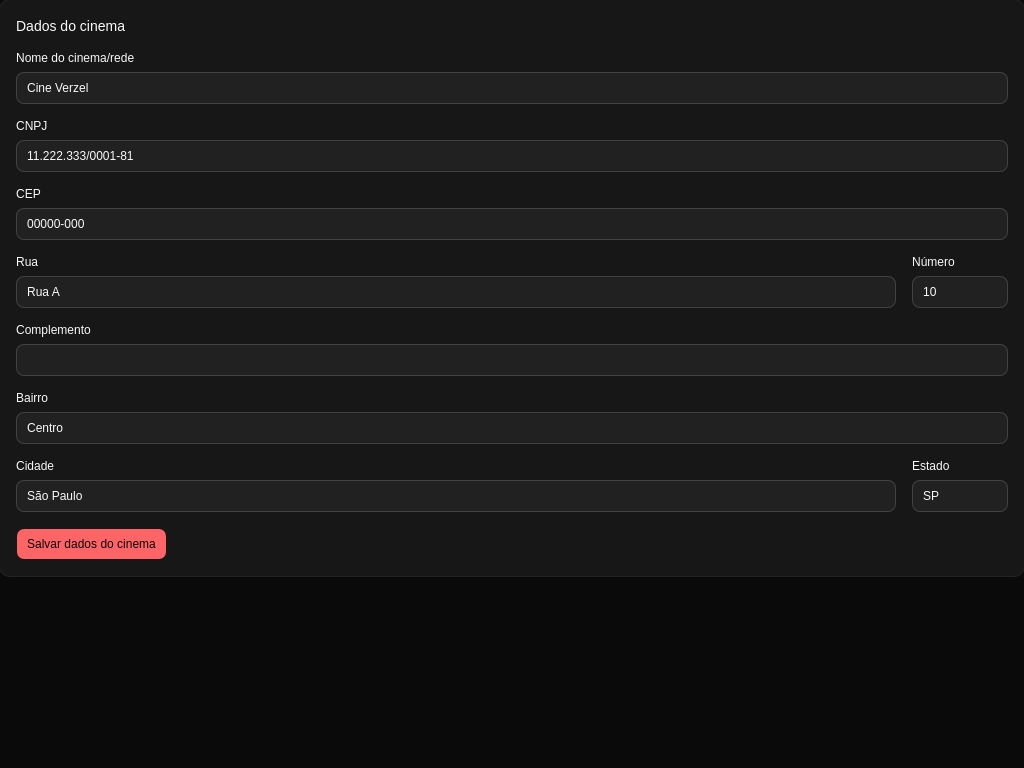
Test case: CinemaInfoForm › autofills address fields when the CEP lookup succeeds
The width and height of the screenshot is (1024, 768).
Replace the text in the field labelled "CEP" with "01310-100" at (512, 224), box [16, 208, 1008, 240]
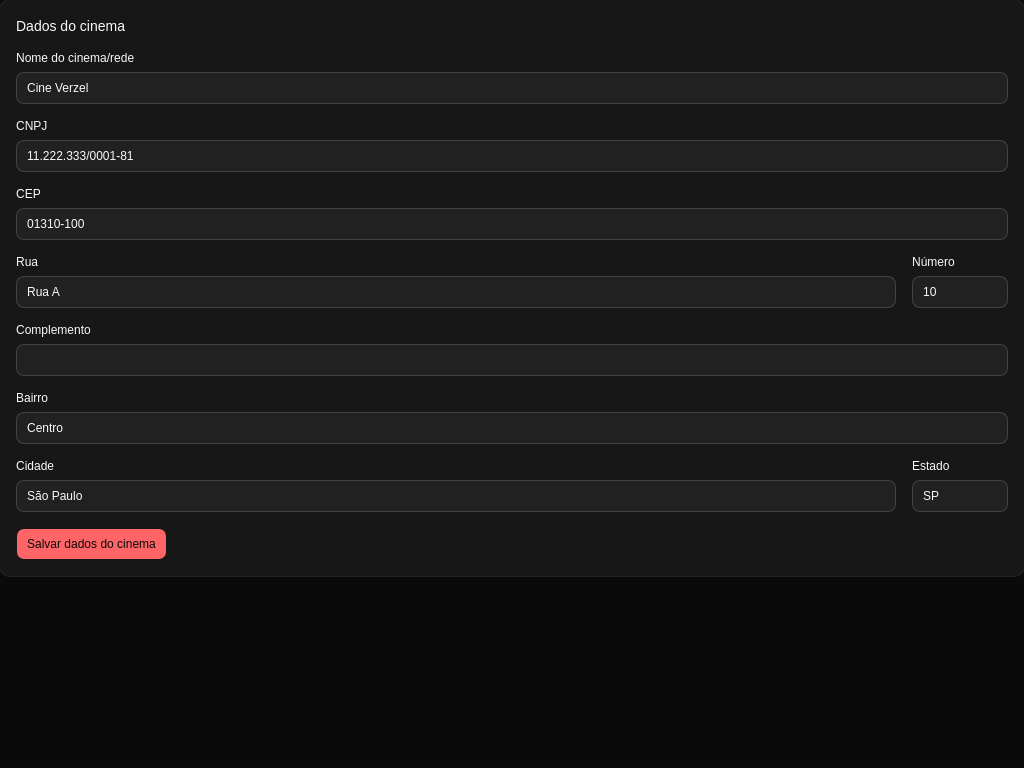
Leave the field labelled "CEP", box [16, 208, 1008, 240]
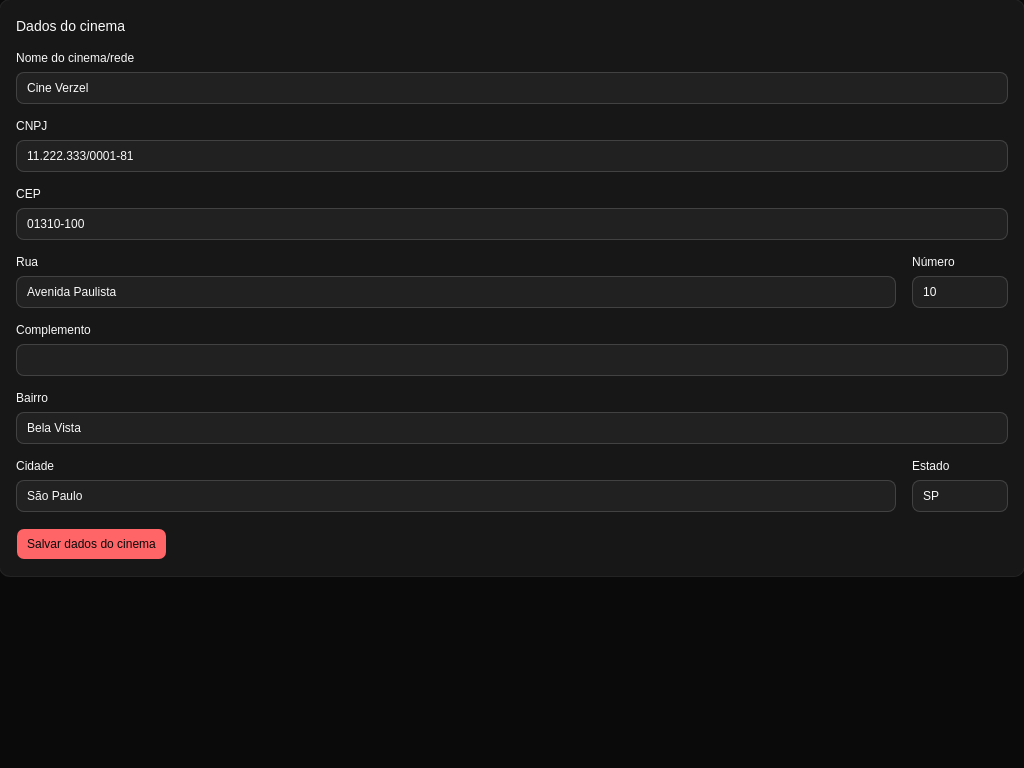
Expected: the field labelled "Rua" holds "Avenida Paulista", [16, 276, 896, 308]
